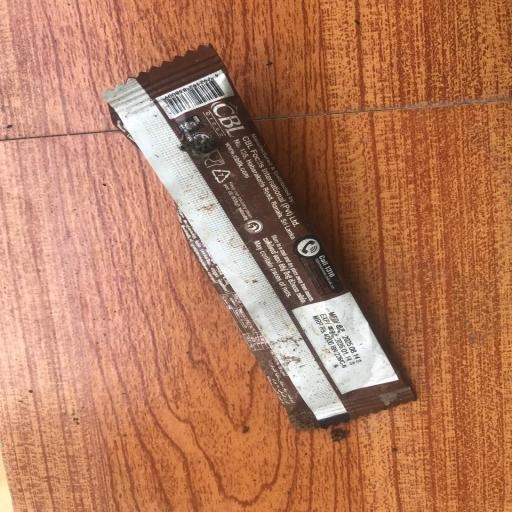waste: (93, 39, 427, 436)
